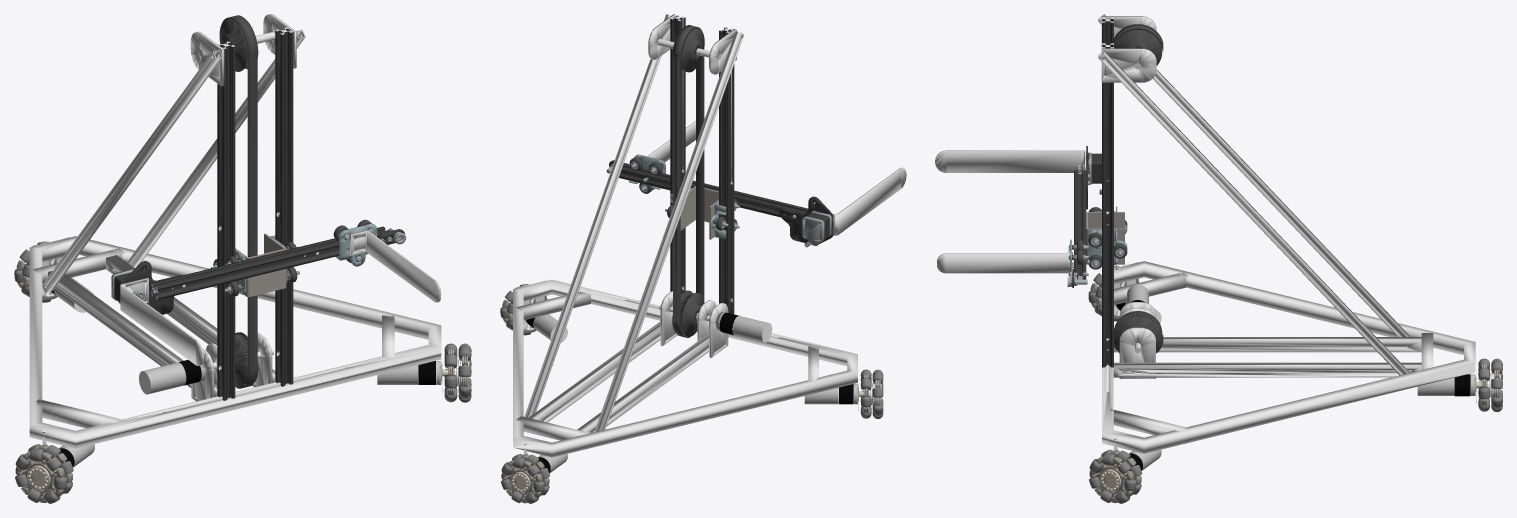
Rendered from final-design.glb.
3 renders of one model, left to right at view 1: azimuth 30°, elevation 25°; view 2: azimuth 150°, elevation 25°; view 3: azimuth 270°, elevation 25°, orthographic. The views are drawn at different scales.
Parts seen in each view (by area): view 1: chassis main-1, 2020 profile modified-1, 2020 profile modified-2, probably final design assem, Belt2-2^probably final design assem-1, 2020 profile-1, supporter members-1, claw 2.111-1, claw-1, motor-2, u mount-1, motor-1 (+8 smaller); view 2: chassis main-1, probably final design assem, Belt2-2^probably final design assem-1, supporter members-1, 2020 profile modified-1, 2020 profile modified-2, 2020 profile-1, claw 2.111-1, motor-1 (×2), motor-2, u mount-1, X motor bracket-1 (+8 smaller); view 3: chassis main-1, probably final design assem, supporter members-1, 2020 profile modified-2, claw 2.111-1, claw-1, pully mounts-5, 2020 profile-1, motor-1, 17234800 pulley-1, 17234800 pulley-2, u mount-1.
Part boxes in pixels (box(x1,y1,x2,y2)): chassis main-1: box(29, 236, 441, 448); 2020 profile modified-1: box(217, 41, 235, 400); 2020 profile modified-2: box(275, 27, 293, 386); probably final design assem: box(42, 14, 296, 384); Belt2-2^probably final design assem-1: box(222, 15, 257, 388); 2020 profile-1: box(151, 226, 389, 299); supporter members-1: box(127, 29, 305, 267); claw 2.111-1: box(120, 278, 203, 365); claw-1: box(350, 230, 441, 302); motor-2: box(139, 360, 206, 394); u mount-1: box(235, 233, 286, 297); motor-1: box(377, 361, 442, 384); chassis main-1: box(513, 279, 857, 457); probably final design assem: box(594, 14, 744, 432); Belt2-2^probably final design assem-1: box(673, 25, 704, 337); supporter members-1: box(524, 14, 671, 417); 2020 profile modified-1: box(719, 26, 734, 323); 2020 profile modified-2: box(670, 15, 685, 294); 2020 profile-1: box(619, 163, 808, 217); claw 2.111-1: box(832, 167, 906, 235); motor-1 (×2): box(524, 314, 859, 404); motor-2: box(715, 312, 772, 342); u mount-1: box(680, 186, 718, 239); X motor bracket-1: box(779, 196, 833, 243); chassis main-1: box(1102, 261, 1475, 453); probably final design assem: box(1098, 14, 1410, 336); supporter members-1: box(1098, 50, 1409, 375); 2020 profile modified-2: box(1102, 43, 1113, 367); claw 2.111-1: box(935, 150, 1086, 172); claw-1: box(937, 246, 1070, 273); pully mounts-5: box(1119, 327, 1155, 378); 2020 profile-1: box(1074, 170, 1086, 279); motor-1: box(1417, 374, 1476, 396); 17234800 pulley-1: box(1114, 311, 1162, 352); 17234800 pulley-2: box(1114, 29, 1162, 65); u mount-1: box(1086, 212, 1124, 264).
Size of the model in its own units: 0.7845 by 0.6968 by 0.9353.
